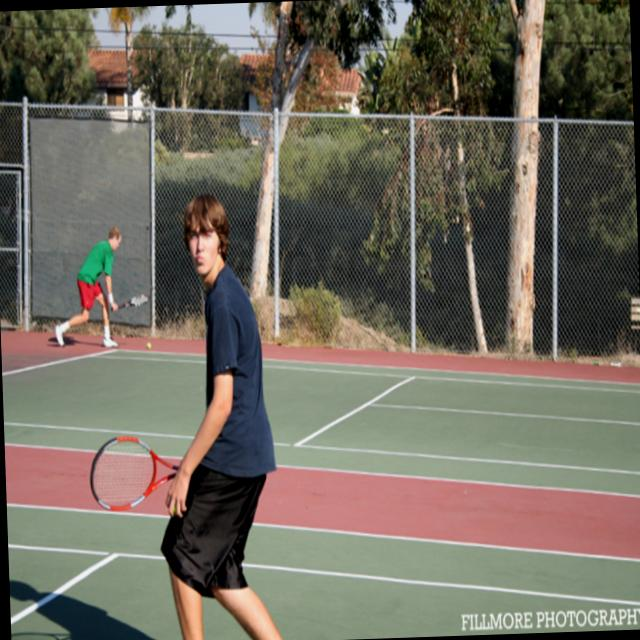Tennis Ball: (145, 342, 152, 349)
